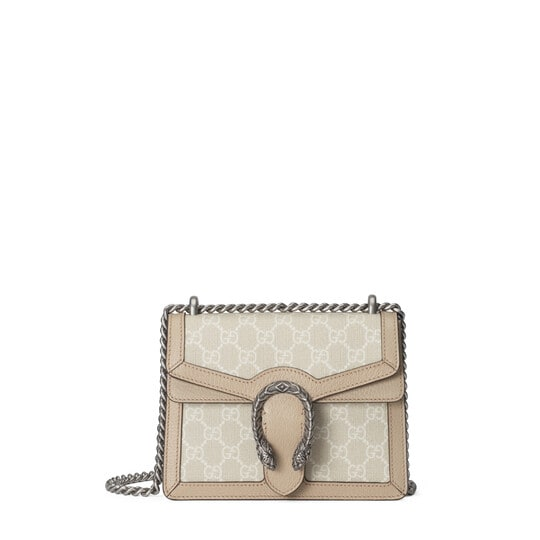Gucci: (139, 277, 421, 504), (193, 314, 381, 364), (242, 381, 334, 479)
